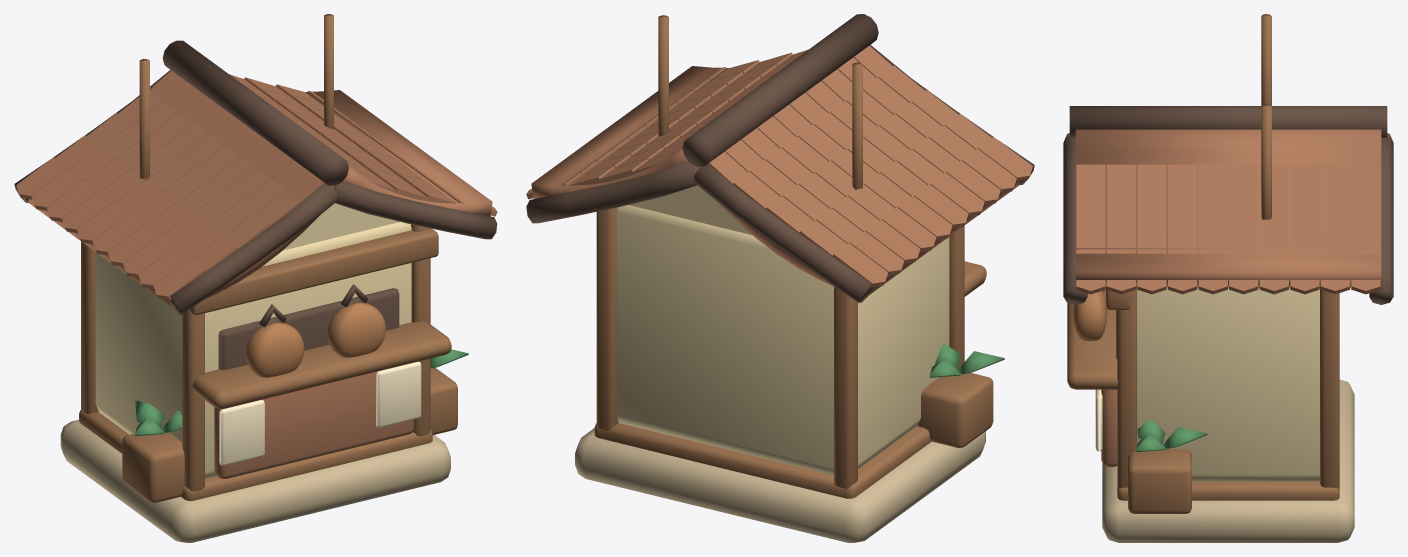
File: booth_bag.glb
3 views of the same model, side by side, from view 1: azimuth 30°, elevation 25°; view 2: azimuth 150°, elevation 25°; view 3: azimuth 270°, elevation 25° (orthographic). The views are drawn at different scales.
Visible parts, largest first — view 1: booth_bag_crafted_mesh; view 2: booth_bag_crafted_mesh; view 3: booth_bag_crafted_mesh.
Boxes of the visible parts, x1,y1,x2,y2 form: booth_bag_crafted_mesh: [14, 14, 497, 542]; booth_bag_crafted_mesh: [526, 14, 1034, 542]; booth_bag_crafted_mesh: [1063, 14, 1393, 542].
Size of the model in its own units: 2.57 by 3.05 by 2.17.
